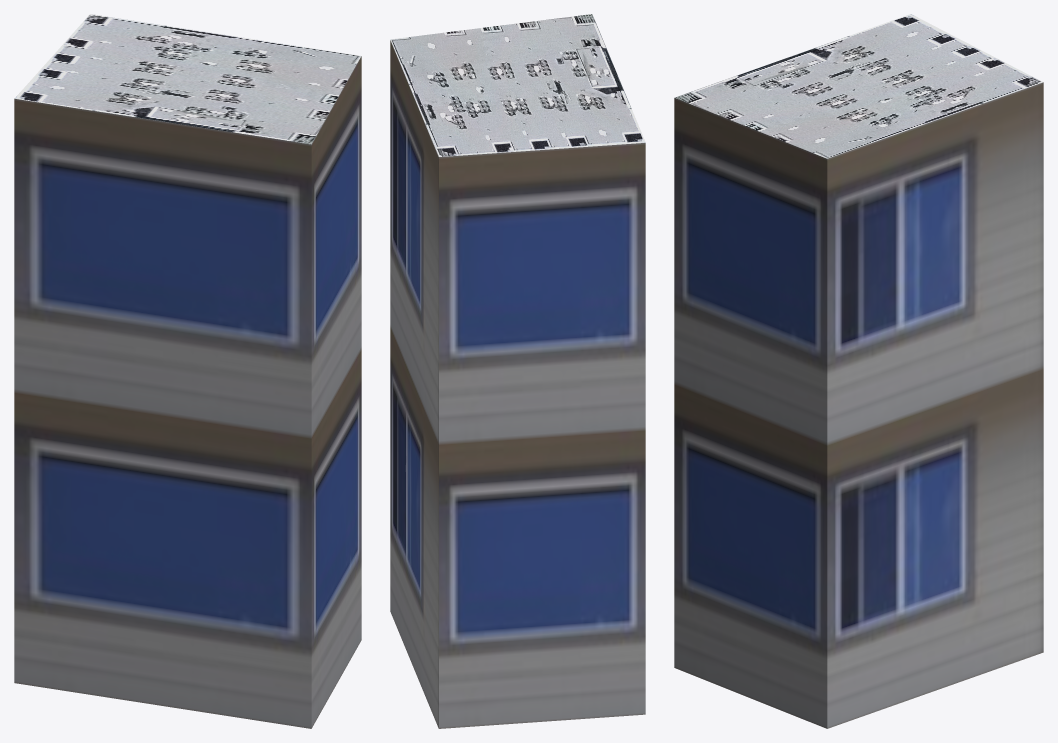
File: ResTex__1251.fbx
3 renders of one model, left to right at view 1: azimuth 30°, elevation 25°; view 2: azimuth 150°, elevation 25°; view 3: azimuth 270°, elevation 25°, orthographic. The views are drawn at different scales.
Parts seen in each view (by area): view 1: CityEngineMaterial_23_m, CityEngineMaterial_4_m; view 2: CityEngineMaterial_23_m, CityEngineMaterial_4_m; view 3: CityEngineMaterial_23_m, CityEngineMaterial_4_m.
Part boxes in pixels (left/top/right/bottom): CityEngineMaterial_23_m: left=14, top=56, right=361, bottom=728; CityEngineMaterial_4_m: left=15, top=14, right=361, bottom=144; CityEngineMaterial_23_m: left=390, top=40, right=645, bottom=728; CityEngineMaterial_4_m: left=390, top=14, right=645, bottom=156; CityEngineMaterial_23_m: left=674, top=82, right=1043, bottom=728; CityEngineMaterial_4_m: left=675, top=14, right=1042, bottom=158.
Bounding box in the file's own units: 3.27 × 6 × 3.52.
Materials: 2 (2 with a texture image).
